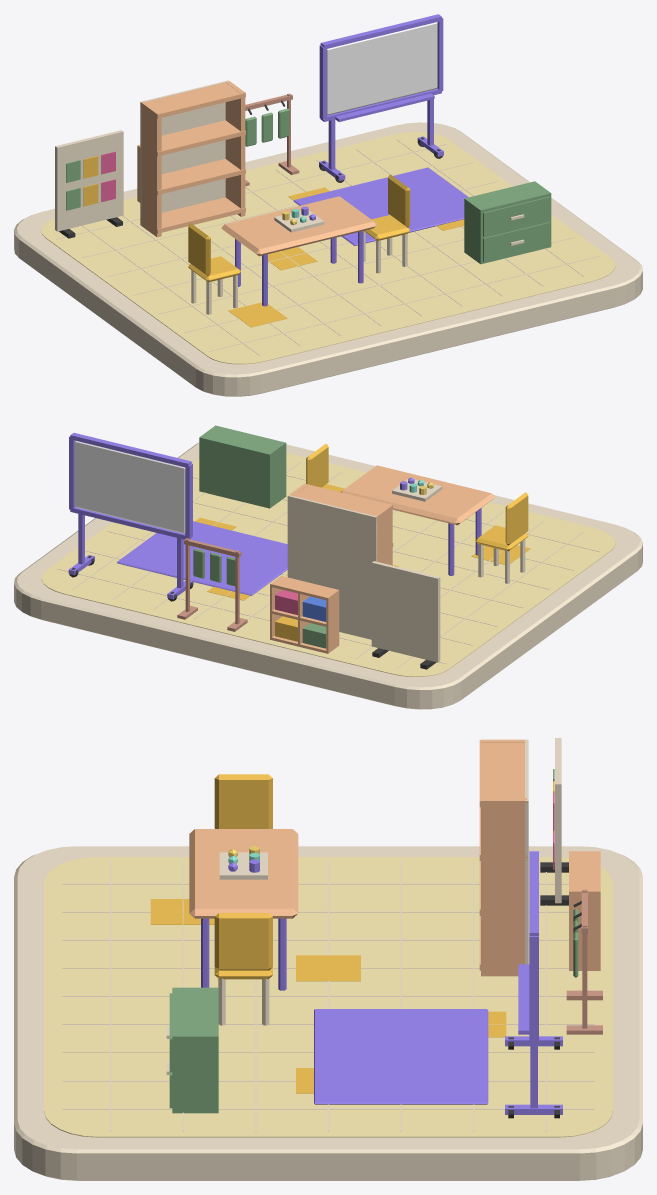
File: room.fbx
3 renders of one model, top to bottom at view 1: azimuth 30°, elevation 25°; view 2: azimuth 150°, elevation 25°; view 3: azimuth 270°, elevation 25°, orthographic. The views are drawn at different scales.
Visible parts, largest first — view 1: COM-02 Floor Surface, COM-01 Rounded Base Direct, Writing surface, Cabinet, Rug, Panel, Rounded table top, Back, Side, Side.001, Shelf.003, Shelf (+13 smaller); view 2: COM-02 Floor Surface, COM-01 Rounded Base Direct, Back, Writing surface, Panel, Cabinet, Rug, Rounded table top, Shelf.003, Frame rail.001, Backrest, Backrest.001 (+13 smaller); view 3: COM-02 Floor Surface, COM-01 Rounded Base Direct, Rug, Rounded table top, Side.001, Cabinet, Backrest.001, Backrest, Shelf.003, Cubbies divider.002, Geometric color tile.001, Cubbies shelf.002 (+12 smaller).
Boxes of the visible parts, x1,y1,x2,y2 form: COM-02 Floor Surface: (41, 132, 615, 364); COM-01 Rounded Base Direct: (14, 122, 642, 396); Writing surface: (327, 22, 437, 115); Cabinet: (464, 181, 551, 264); Rug: (293, 167, 468, 245); Panel: (55, 130, 123, 231); Rounded table top: (221, 196, 376, 256); Back: (140, 80, 229, 225); Side: (141, 101, 161, 237); Side.001: (225, 81, 245, 216); Shelf.003: (140, 82, 245, 118); Shelf: (140, 197, 245, 233); COM-02 Floor Surface: (41, 453, 615, 676); COM-01 Rounded Base Direct: (14, 443, 642, 709); Back: (287, 495, 377, 639); Writing surface: (74, 440, 185, 533); Panel: (371, 561, 440, 662); Cabinet: (199, 425, 286, 508); Rug: (117, 521, 287, 595); Rounded table top: (340, 465, 494, 525); Shelf.003: (294, 483, 393, 520); Frame rail.001: (70, 433, 191, 467); Backrest: (505, 492, 528, 545); Backrest.001: (306, 444, 328, 487); COM-02 Floor Surface: (44, 857, 612, 1137); COM-01 Rounded Base Direct: (14, 846, 642, 1180); Rug: (314, 1009, 488, 1104); Rounded table top: (189, 829, 298, 918); Side.001: (481, 798, 526, 976); Cabinet: (166, 987, 218, 1113); Backrest.001: (214, 913, 272, 970); Backrest: (214, 774, 272, 828); Shelf.003: (479, 740, 527, 807); Cubbies divider.002: (569, 892, 600, 970); Geometric color tile.001: (296, 955, 360, 981); Cubbies shelf.002: (569, 851, 600, 891).
Size of the model in its own units: 600 by 204 by 520.
